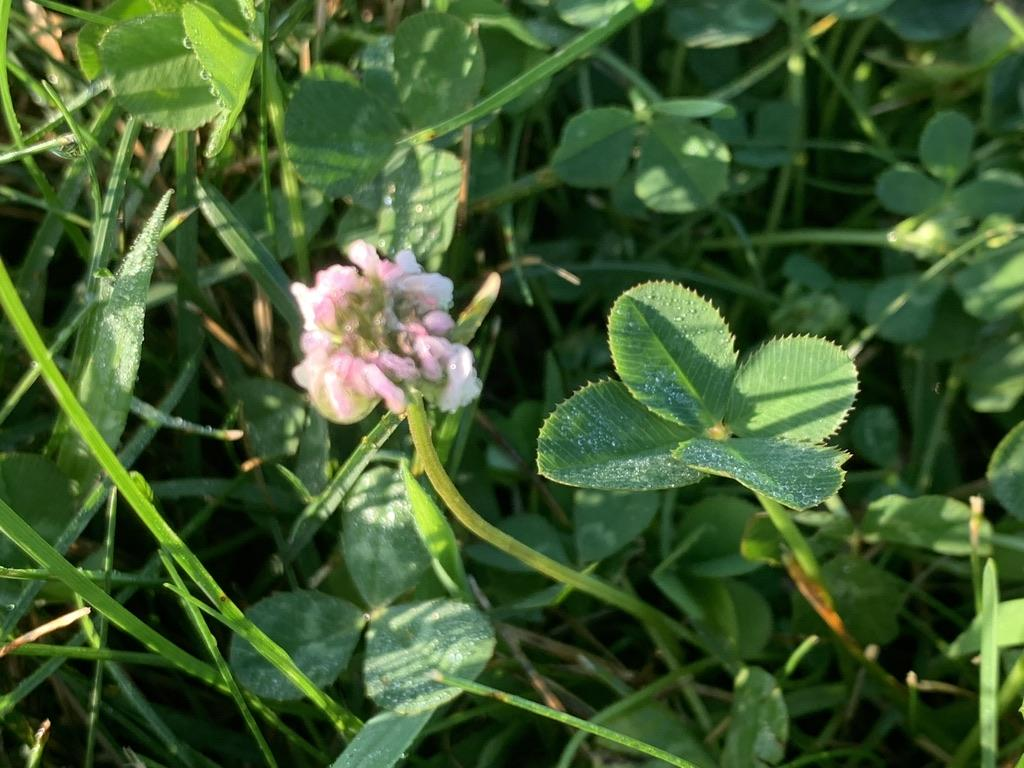4-Leaf-Clovers: (380, 121, 679, 365)
